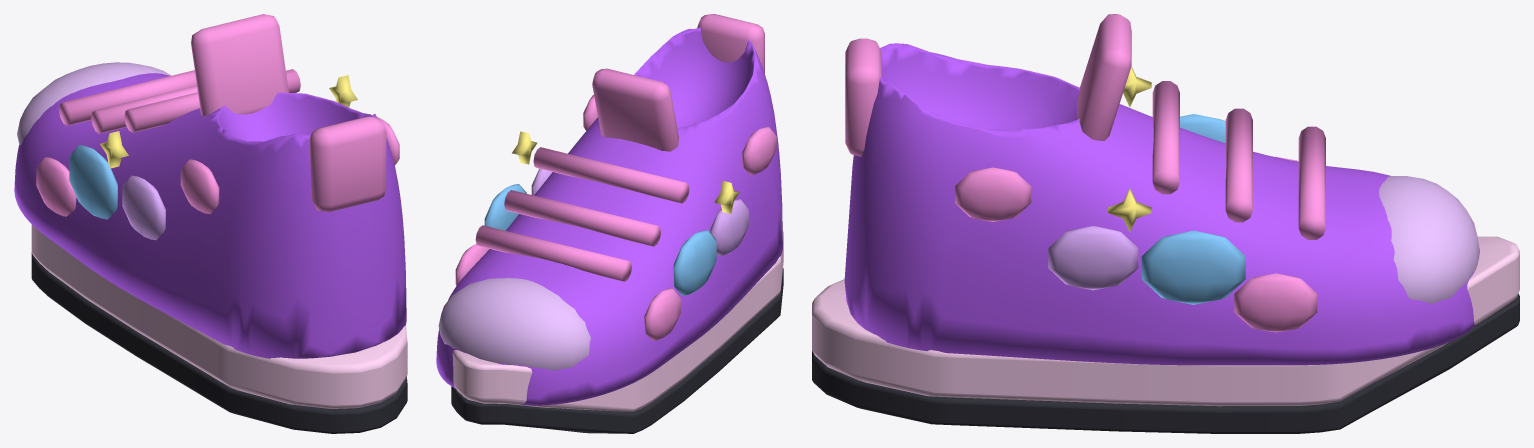
File: shoe_nebulasteps.fbx
The picture shows the model from 3 angles, left to right: view 1: azimuth 30°, elevation 25°; view 2: azimuth 150°, elevation 25°; view 3: azimuth 270°, elevation 25°; orthographic projection. The views are drawn at different scales.
Visible parts, largest first — view 1: shoe_nebulasteps; view 2: shoe_nebulasteps; view 3: shoe_nebulasteps.
Part boxes in pixels (left/top/right/bottom): shoe_nebulasteps: left=14, top=14, right=407, bottom=433; shoe_nebulasteps: left=436, top=14, right=783, bottom=433; shoe_nebulasteps: left=812, top=14, right=1519, bottom=433.
Size of the model in its own units: 1.69 by 2.1 by 3.88.
1 material, 1 textured.
